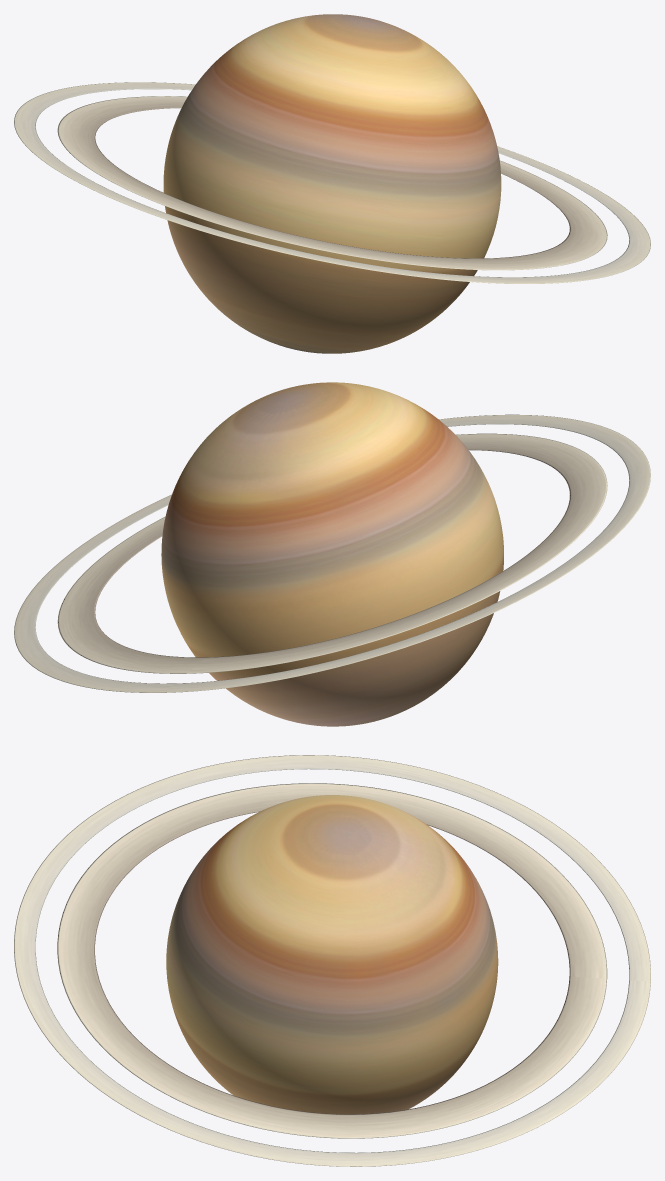
The model's file is saturn.obj.
3 views of the same model, one above another, from view 1: azimuth 30°, elevation 25°; view 2: azimuth 150°, elevation 25°; view 3: azimuth 270°, elevation 25° (orthographic). The views are drawn at different scales.
Visible parts, largest first — view 1: 13906_Saturn_v1_l3; view 2: 13906_Saturn_v1_l3; view 3: 13906_Saturn_v1_l3.
Part boxes in pixels (x1,y1,x2,y2): 13906_Saturn_v1_l3: [14, 14, 650, 353]; 13906_Saturn_v1_l3: [14, 382, 650, 726]; 13906_Saturn_v1_l3: [14, 755, 650, 1166].
Bounding box in the file's own units: 22.97 × 12.44 × 23.74.
